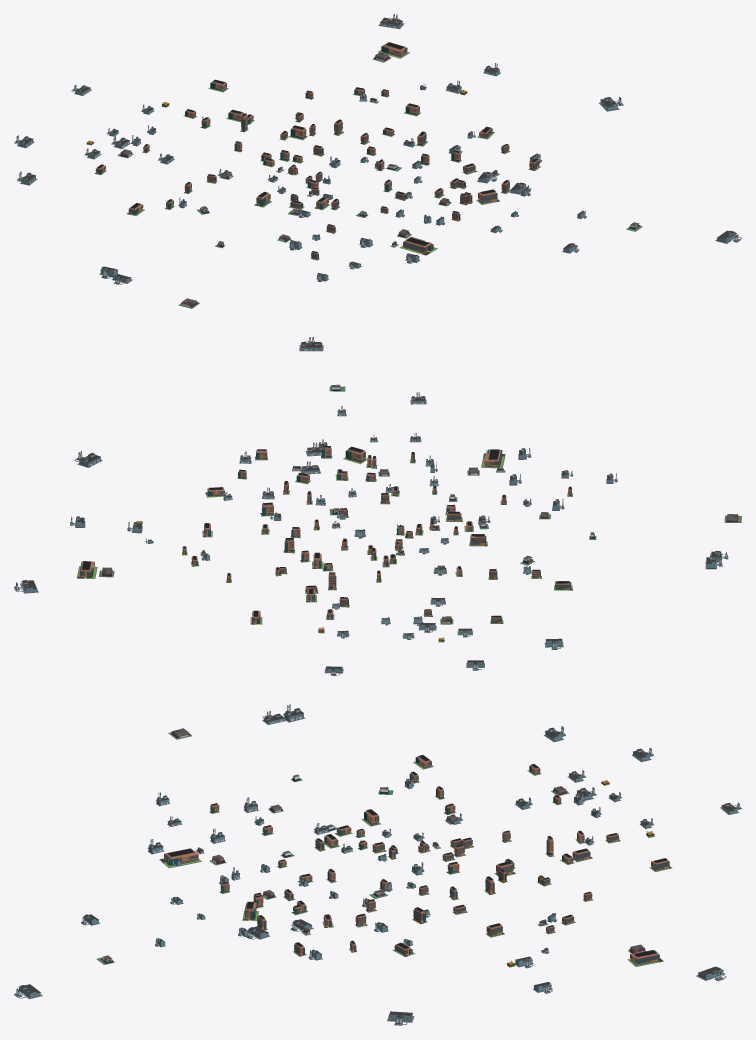
The model's file is london2.glb.
The picture shows the model from 3 angles, top to bottom: view 1: azimuth 30°, elevation 25°; view 2: azimuth 150°, elevation 25°; view 3: azimuth 270°, elevation 25°; orthographic projection. The views are drawn at different scales.
Parts seen in each view (by area): view 1: london; view 2: london; view 3: london.
Part boxes in pixels (box(x1,y1,x2,y2)): london: box(14, 14, 741, 308); london: box(14, 337, 741, 675); london: box(14, 704, 741, 1025).
Size of the model in its own units: 1751 by 46.27 by 1724.
8 materials, 8 textured.
